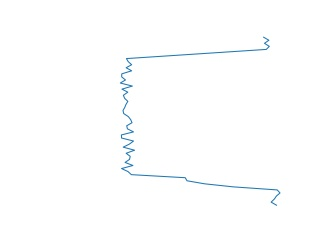distributaryChannelFill: (116, 39, 287, 206)
